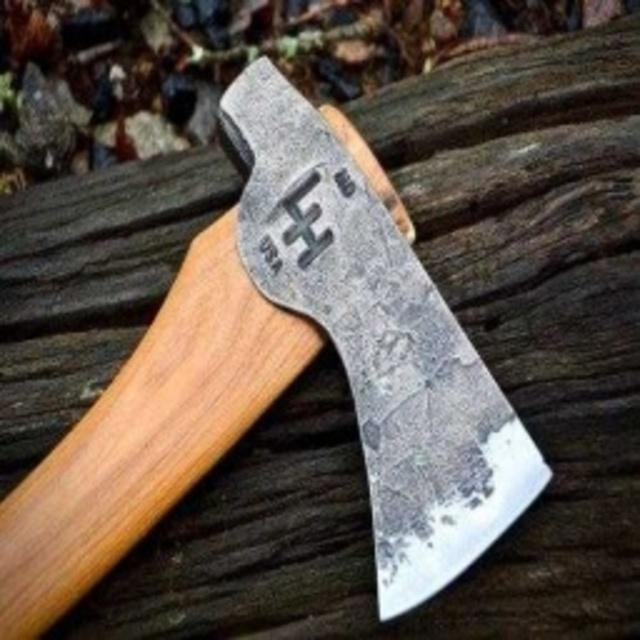ax: (1, 45, 567, 640)
